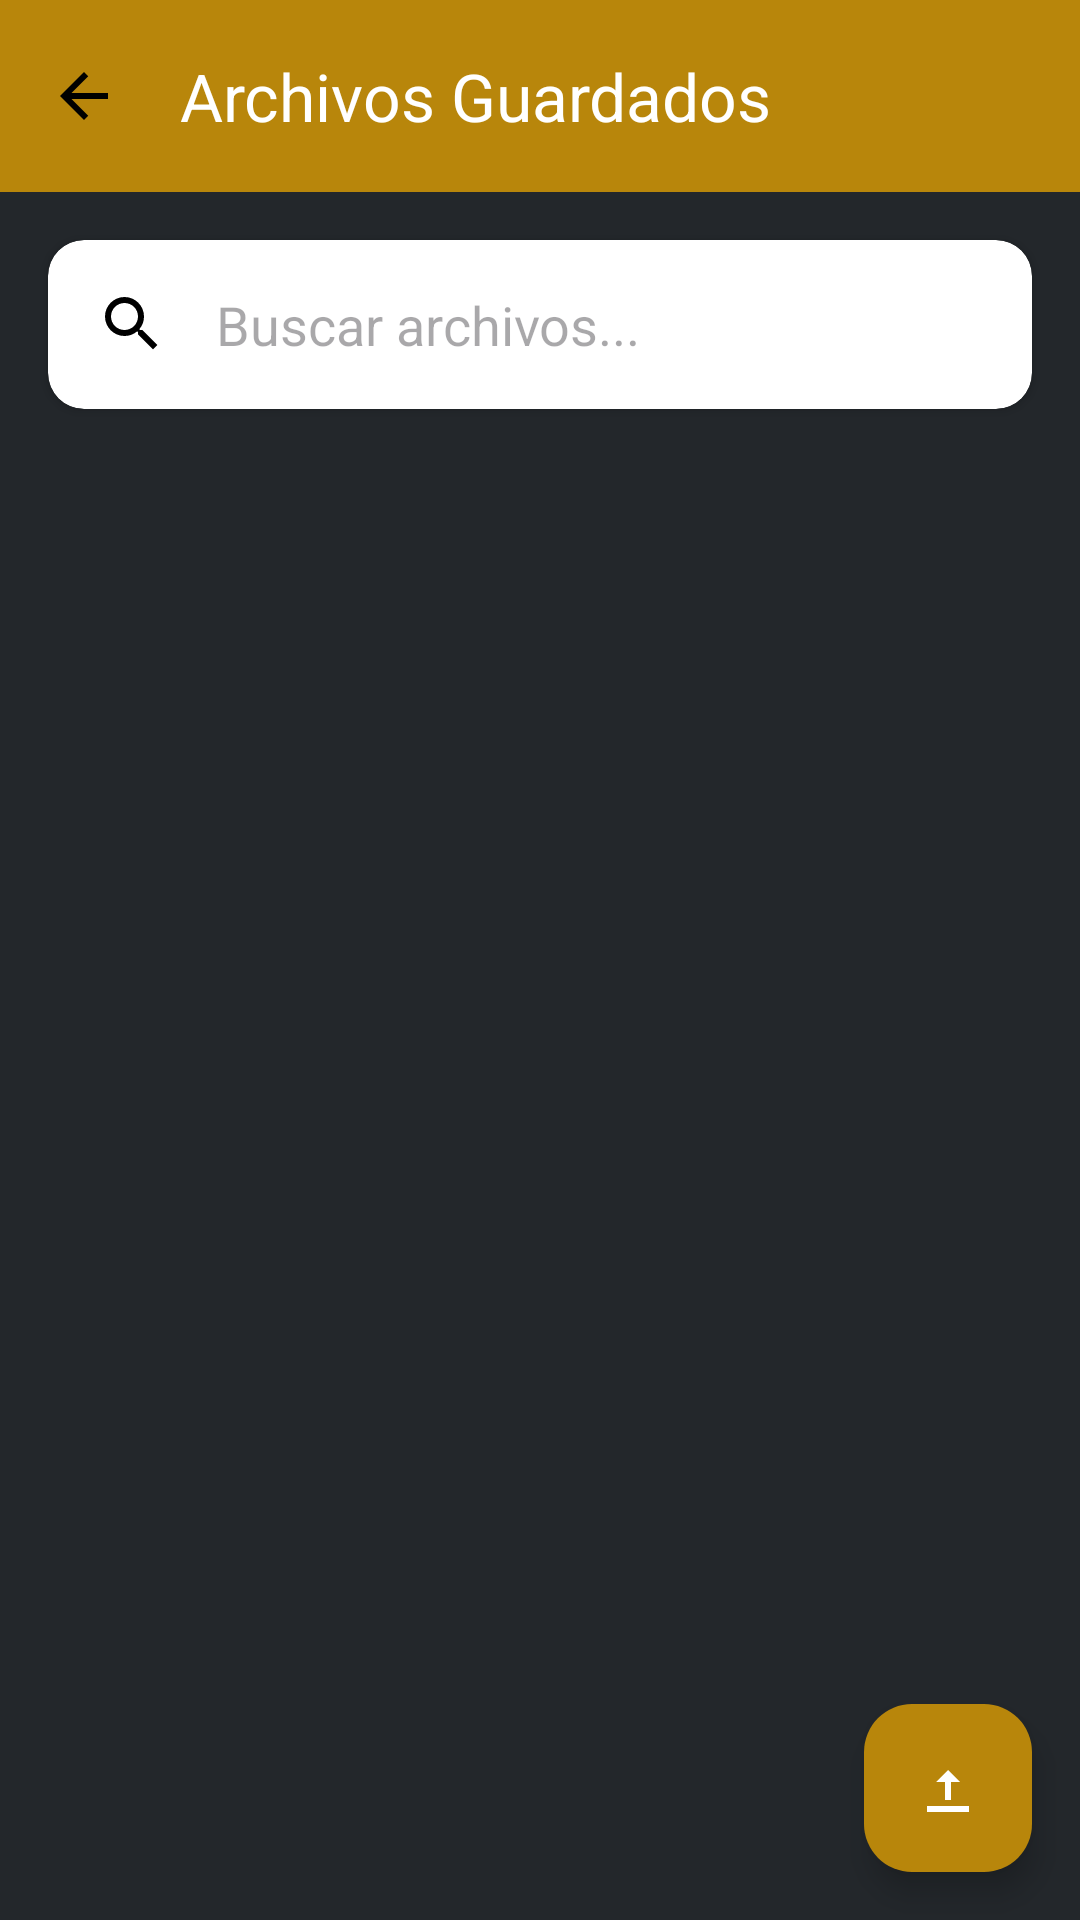

Screen size 1080px×1920px. Icon name, then its center in pixels as (x,y):
Icono de búsqueda: (131,323)
Importar archivo: (948,1788)
